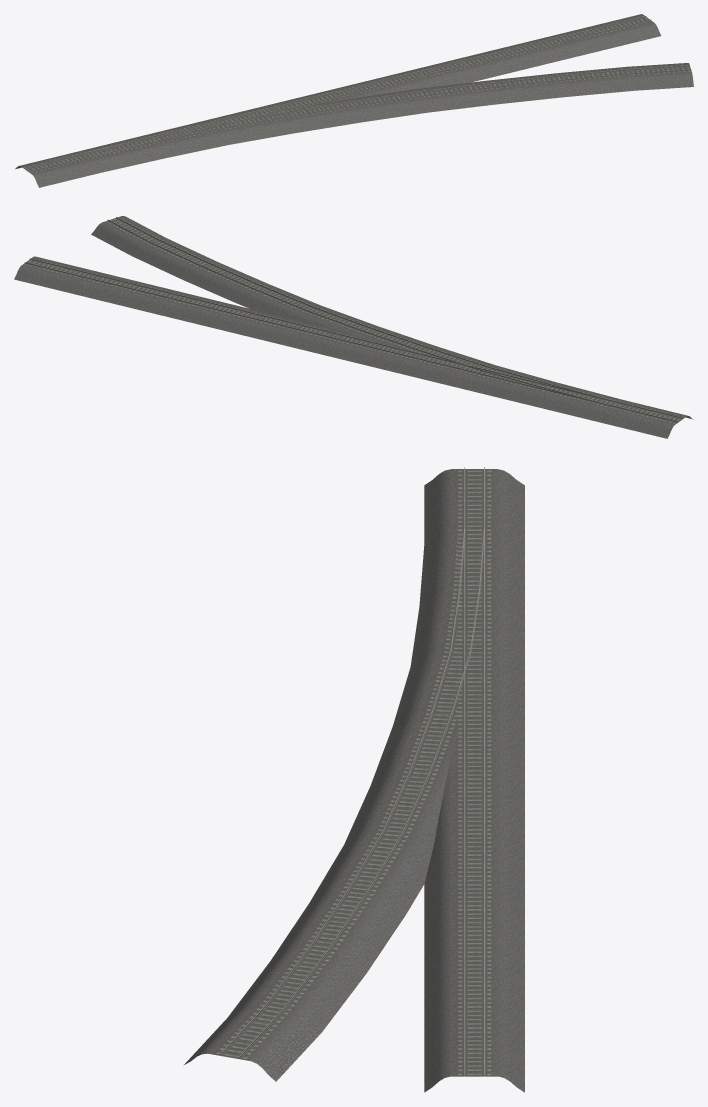
The model's file is Rail_Turnouts-B.fbx.
3 views of the same model, one above another, from view 1: azimuth 30°, elevation 25°; view 2: azimuth 150°, elevation 25°; view 3: azimuth 270°, elevation 25° (orthographic). The views are drawn at different scales.
Parts seen in each view (by area): view 1: Rail_Turnouts-B; view 2: Rail_Turnouts-B; view 3: Rail_Turnouts-B.
Boxes of the visible parts, <box> form: Rail_Turnouts-B: <box>15,14,693,187</box>; Rail_Turnouts-B: <box>14,216,693,438</box>; Rail_Turnouts-B: <box>183,467,524,1092</box>.
Size of the model in its own units: 80 by 19.02 by 1.12.
